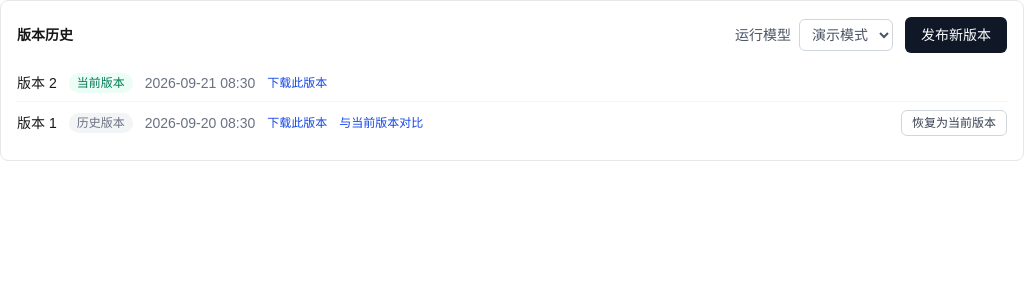
it: VersionPanel › 发布被门禁拒绝时展示失败原因与阻塞问题列表，不刷新
Click the button "发布新版本" at (956, 35), box [905,17,1007,53]
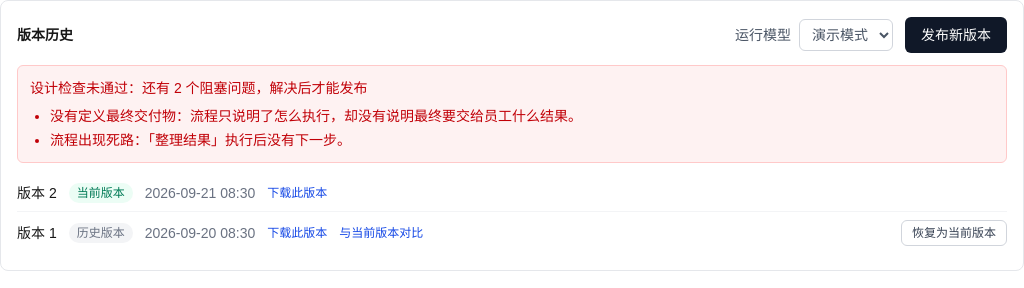
expect the message shows "设计检查未通过：还有 2 个阻塞问题": met, box [30,80,368,96]
expect the list item "没有定义最终交付物：流程只说明了怎么执行，却没有说明最终要交给员工什么结果。" is shown: met, box [50,108,582,124]
expect the list item "流程出现死路：「整理结果」执行后没有下一步。" is shown: met, box [50,132,351,148]
